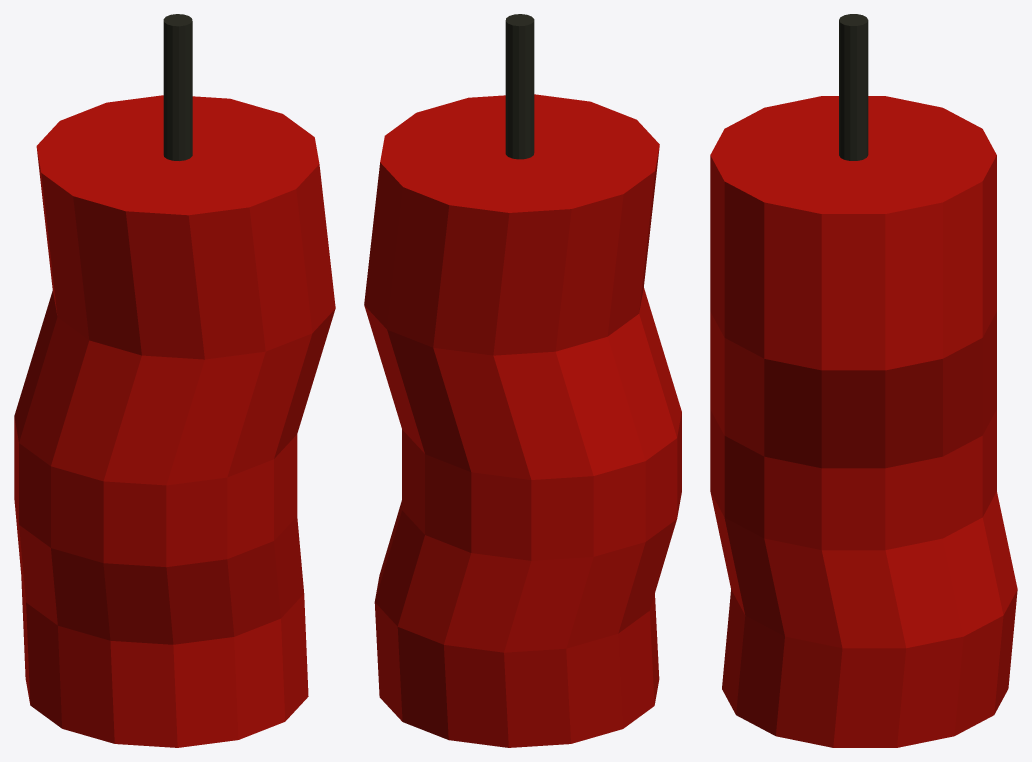
Rendered from Candle.fbx.
The picture shows the model from 3 angles, left to right: view 1: azimuth 30°, elevation 25°; view 2: azimuth 150°, elevation 25°; view 3: azimuth 270°, elevation 25°; orthographic projection.
Parts seen in each view (by area): view 1: Cylinder; view 2: Cylinder; view 3: Cylinder.
Boxes of the visible parts, left/top/right/bottom form: Cylinder: left=14, top=14, right=335, bottom=747; Cylinder: left=364, top=14, right=681, bottom=747; Cylinder: left=710, top=14, right=1017, bottom=747.
Size of the model in its own units: 226 by 517 by 215.
